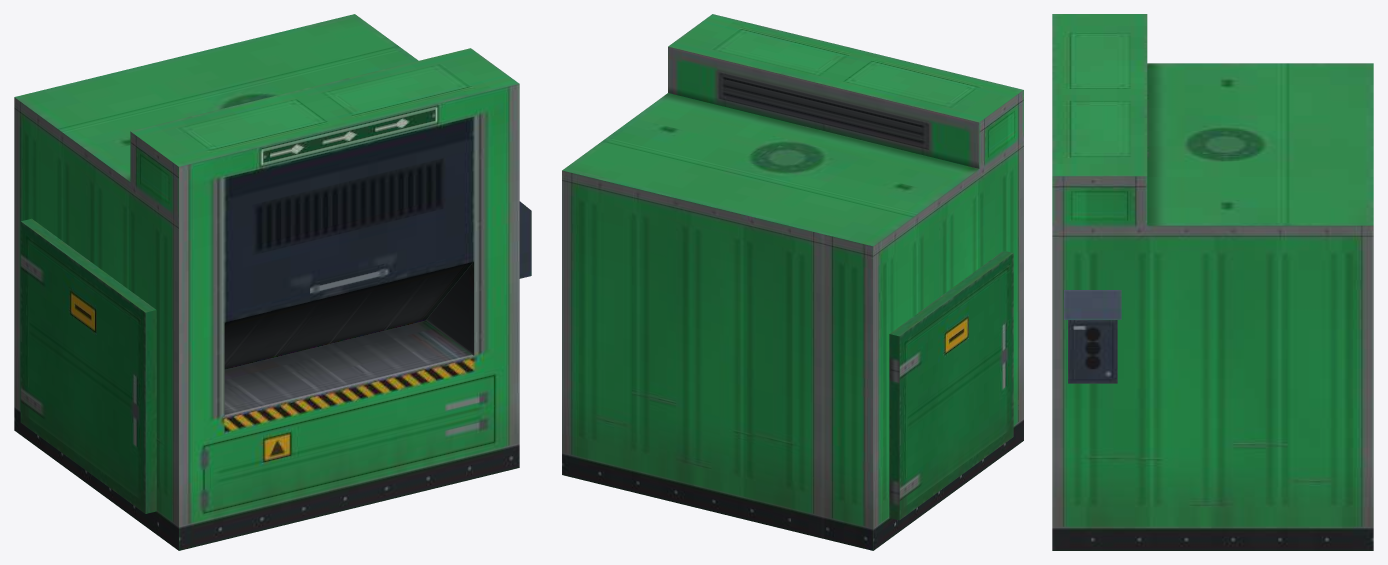
File: yard-compactor-body.glb
3 views of the same model, side by side, from view 1: azimuth 30°, elevation 25°; view 2: azimuth 150°, elevation 25°; view 3: azimuth 270°, elevation 25° (orthographic). The views are drawn at different scales.
Visible parts, largest first — view 1: Yard-compactor-bodyBody; view 2: Yard-compactor-bodyBody; view 3: Yard-compactor-bodyBody.
Part boxes in pixels (left/top/right/bottom): Yard-compactor-bodyBody: left=14, top=14, right=531, bottom=550; Yard-compactor-bodyBody: left=562, top=14, right=1023, bottom=550; Yard-compactor-bodyBody: left=1052, top=14, right=1373, bottom=550.
Size of the model in its own units: 2.68 by 2.65 by 2.06.
Materials: 1 (1 with a texture image).
